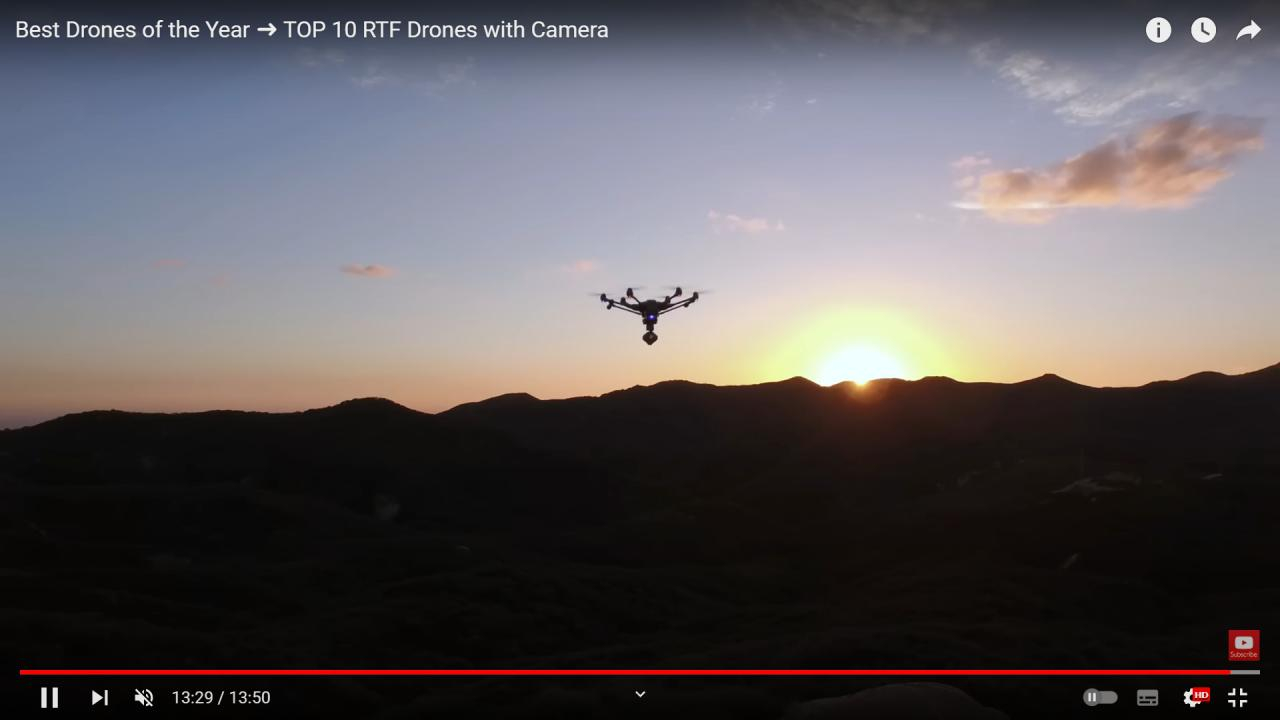Drone: (577, 270, 721, 353)
